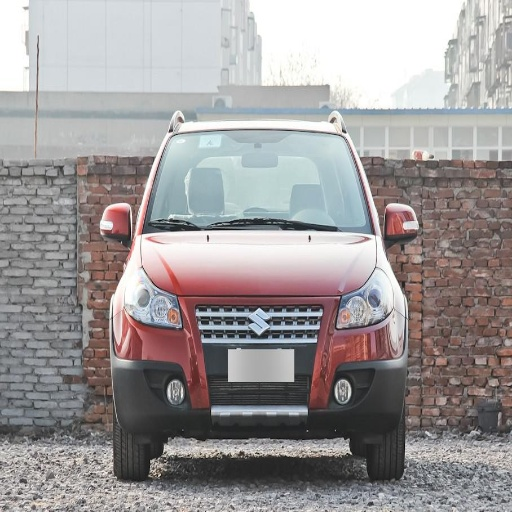front_bumper: (113, 294, 403, 433)
front_right_light: (122, 270, 183, 331)
hood: (138, 232, 376, 294)
left_mirror: (384, 204, 420, 243)
